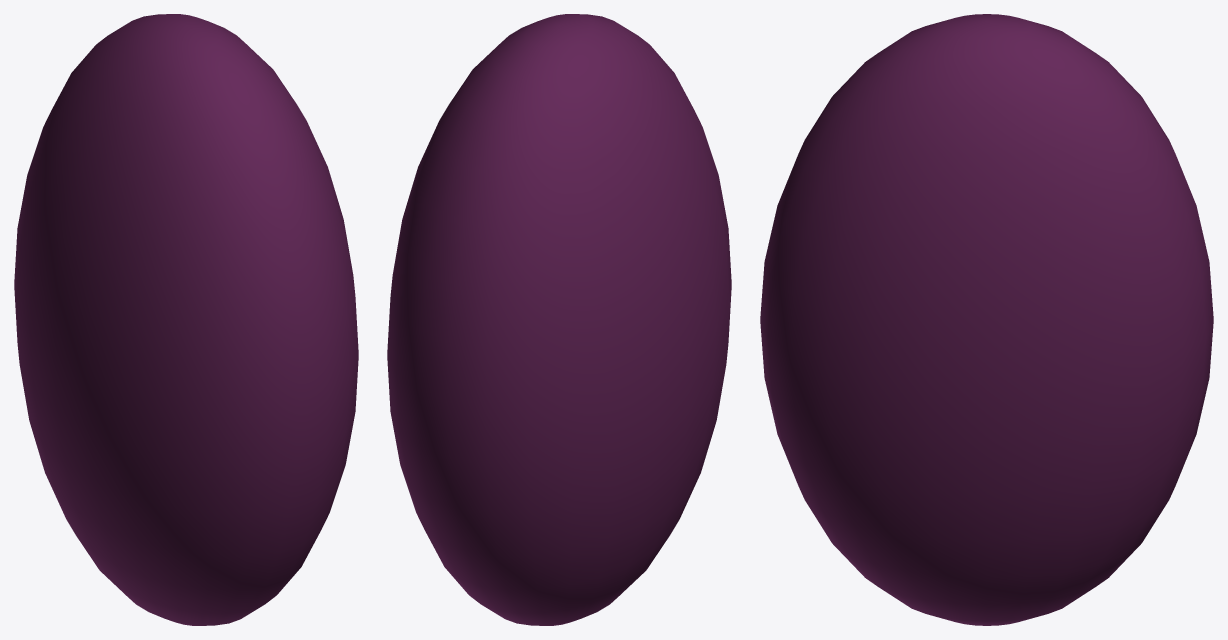
Rendered from SM_EG_Fruit_eggplant_Plain_533041c6d1.fbx.
3 views of the same model, side by side, from view 1: azimuth 30°, elevation 25°; view 2: azimuth 150°, elevation 25°; view 3: azimuth 270°, elevation 25° (orthographic).
Parts seen in each view (by area): view 1: SM_EG_Fruit_eggplant_Plain_533041c6d1; view 2: SM_EG_Fruit_eggplant_Plain_533041c6d1; view 3: SM_EG_Fruit_eggplant_Plain_533041c6d1.
Part boxes in pixels (x1,y1,x2,y2): SM_EG_Fruit_eggplant_Plain_533041c6d1: (14, 14, 358, 625); SM_EG_Fruit_eggplant_Plain_533041c6d1: (387, 14, 731, 625); SM_EG_Fruit_eggplant_Plain_533041c6d1: (760, 14, 1213, 625).
Size of what is drawn, in the model's own units: 15 by 22 by 32.
